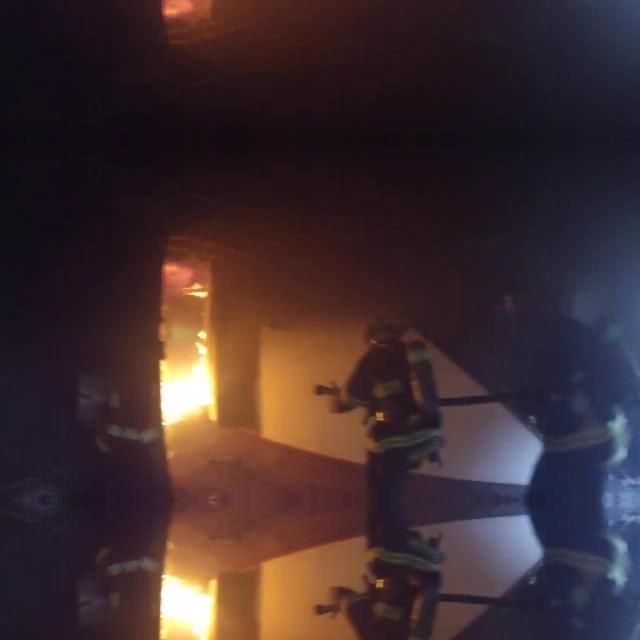smoke: (157, 328, 215, 428), (157, 572, 215, 640)
